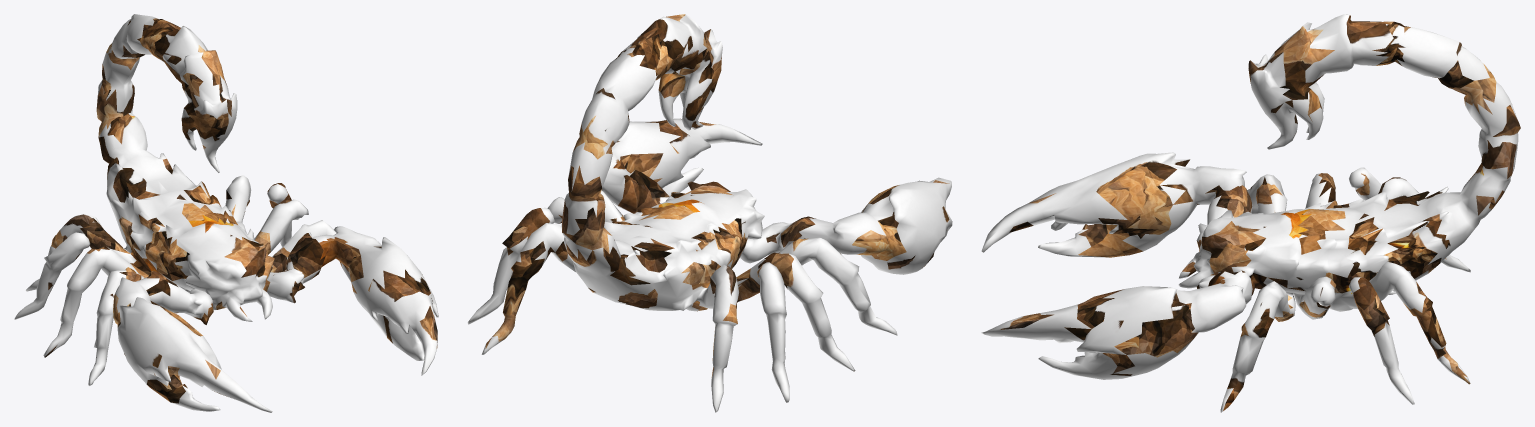
Rendered from sand_scorpion_basic_7500tris.fbx.
3 views of the same model, side by side, from view 1: azimuth 30°, elevation 25°; view 2: azimuth 150°, elevation 25°; view 3: azimuth 270°, elevation 25° (orthographic). The views are drawn at different scales.
Parts seen in each view (by area): view 1: sand_scorpion_basic_decimated; view 2: sand_scorpion_basic_decimated; view 3: sand_scorpion_basic_decimated.
Part boxes in pixels (x1,y1,x2,y2): sand_scorpion_basic_decimated: (14, 14, 438, 412); sand_scorpion_basic_decimated: (467, 14, 952, 412); sand_scorpion_basic_decimated: (981, 14, 1520, 412).
Size of the model in its own units: 1.4 by 1.24 by 1.91.
